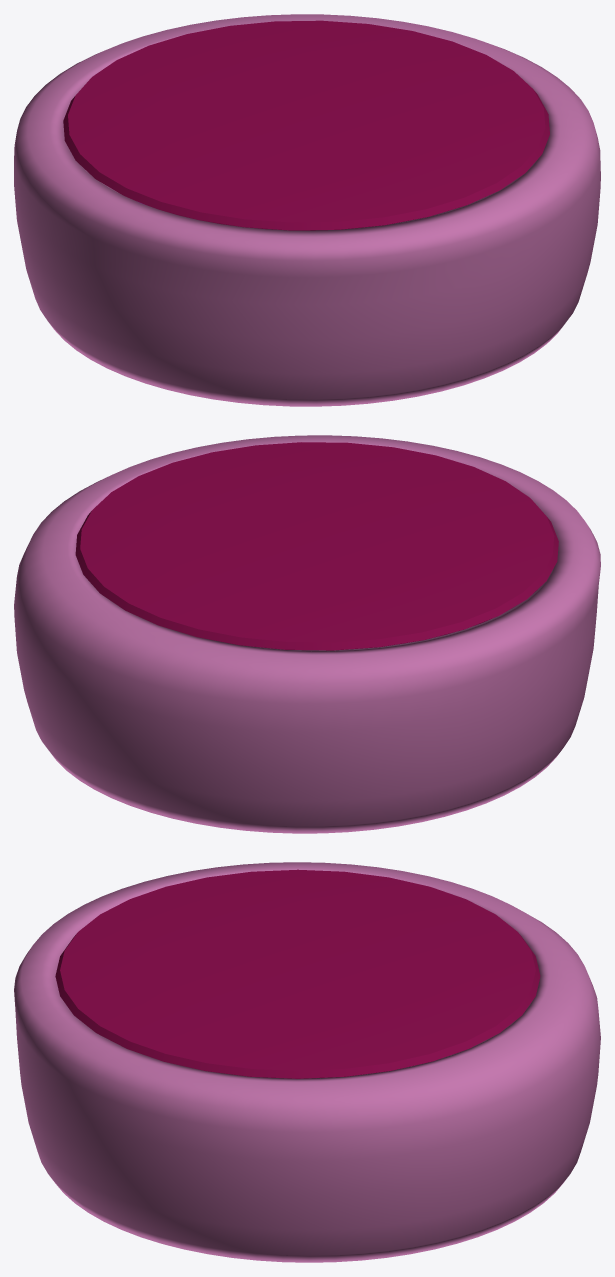
The model's file is CenarioPT1.fbx.
The picture shows the model from 3 angles, top to bottom: view 1: azimuth 30°, elevation 25°; view 2: azimuth 150°, elevation 25°; view 3: azimuth 270°, elevation 25°; orthographic projection.
Visible parts, largest first — view 1: Circle.002, Circle.003; view 2: Circle.002, Circle.003; view 3: Circle.002, Circle.003.
Boxes of the visible parts, left/top/right/bottom form: Circle.002: left=14, top=14, right=600, bottom=406; Circle.003: left=63, top=20, right=549, bottom=230; Circle.002: left=14, top=435, right=600, bottom=833; Circle.003: left=75, top=442, right=558, bottom=650; Circle.002: left=14, top=862, right=600, bottom=1262; Circle.003: left=55, top=869, right=540, bottom=1078.
Size of the model in its own units: 1305 by 447 by 1308.
